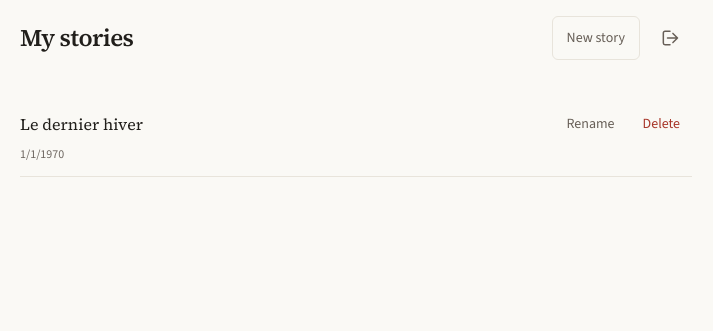
StoriesView › shows an error and keeps the entered title when creating a story fails
Check: the link "Le dernier hiver" is shown, box x1=20 y1=113 x2=143 y2=135
Click the button with test id "create-story-button" at coordinates (596, 38), box x1=552 y1=16 x2=640 y2=60
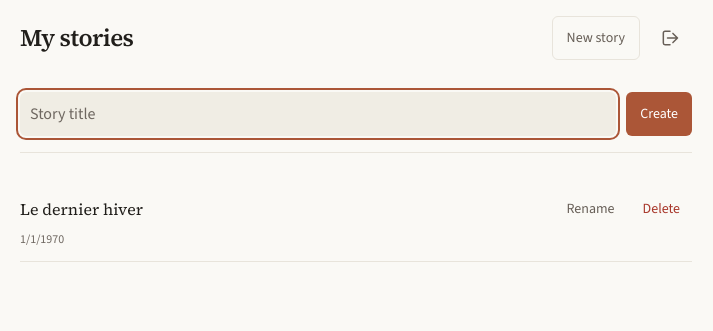
Type "Nouvelle histoire" into the field with test id "new-story-title-input" at coordinates (318, 114), box x1=20 y1=92 x2=616 y2=136
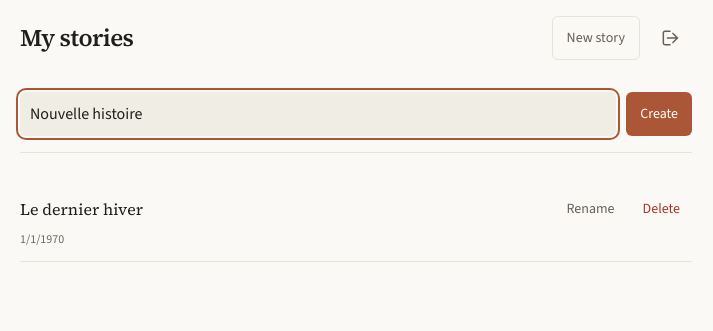
Click the button with test id "new-story-submit-button" at coordinates (659, 114), box x1=626 y1=92 x2=692 y2=136
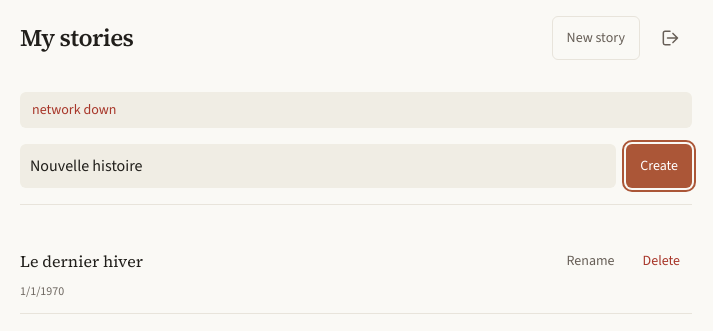
Check: the message with test id "stories-action-error" reads "network down", box x1=32 y1=100 x2=116 y2=119
